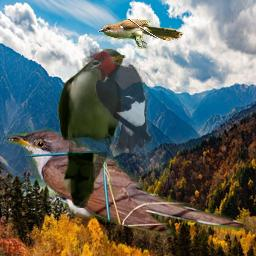Cuckoo: (4, 124, 252, 244), (57, 48, 126, 208), (98, 19, 184, 49)
Woodpecker: (82, 47, 157, 153)
